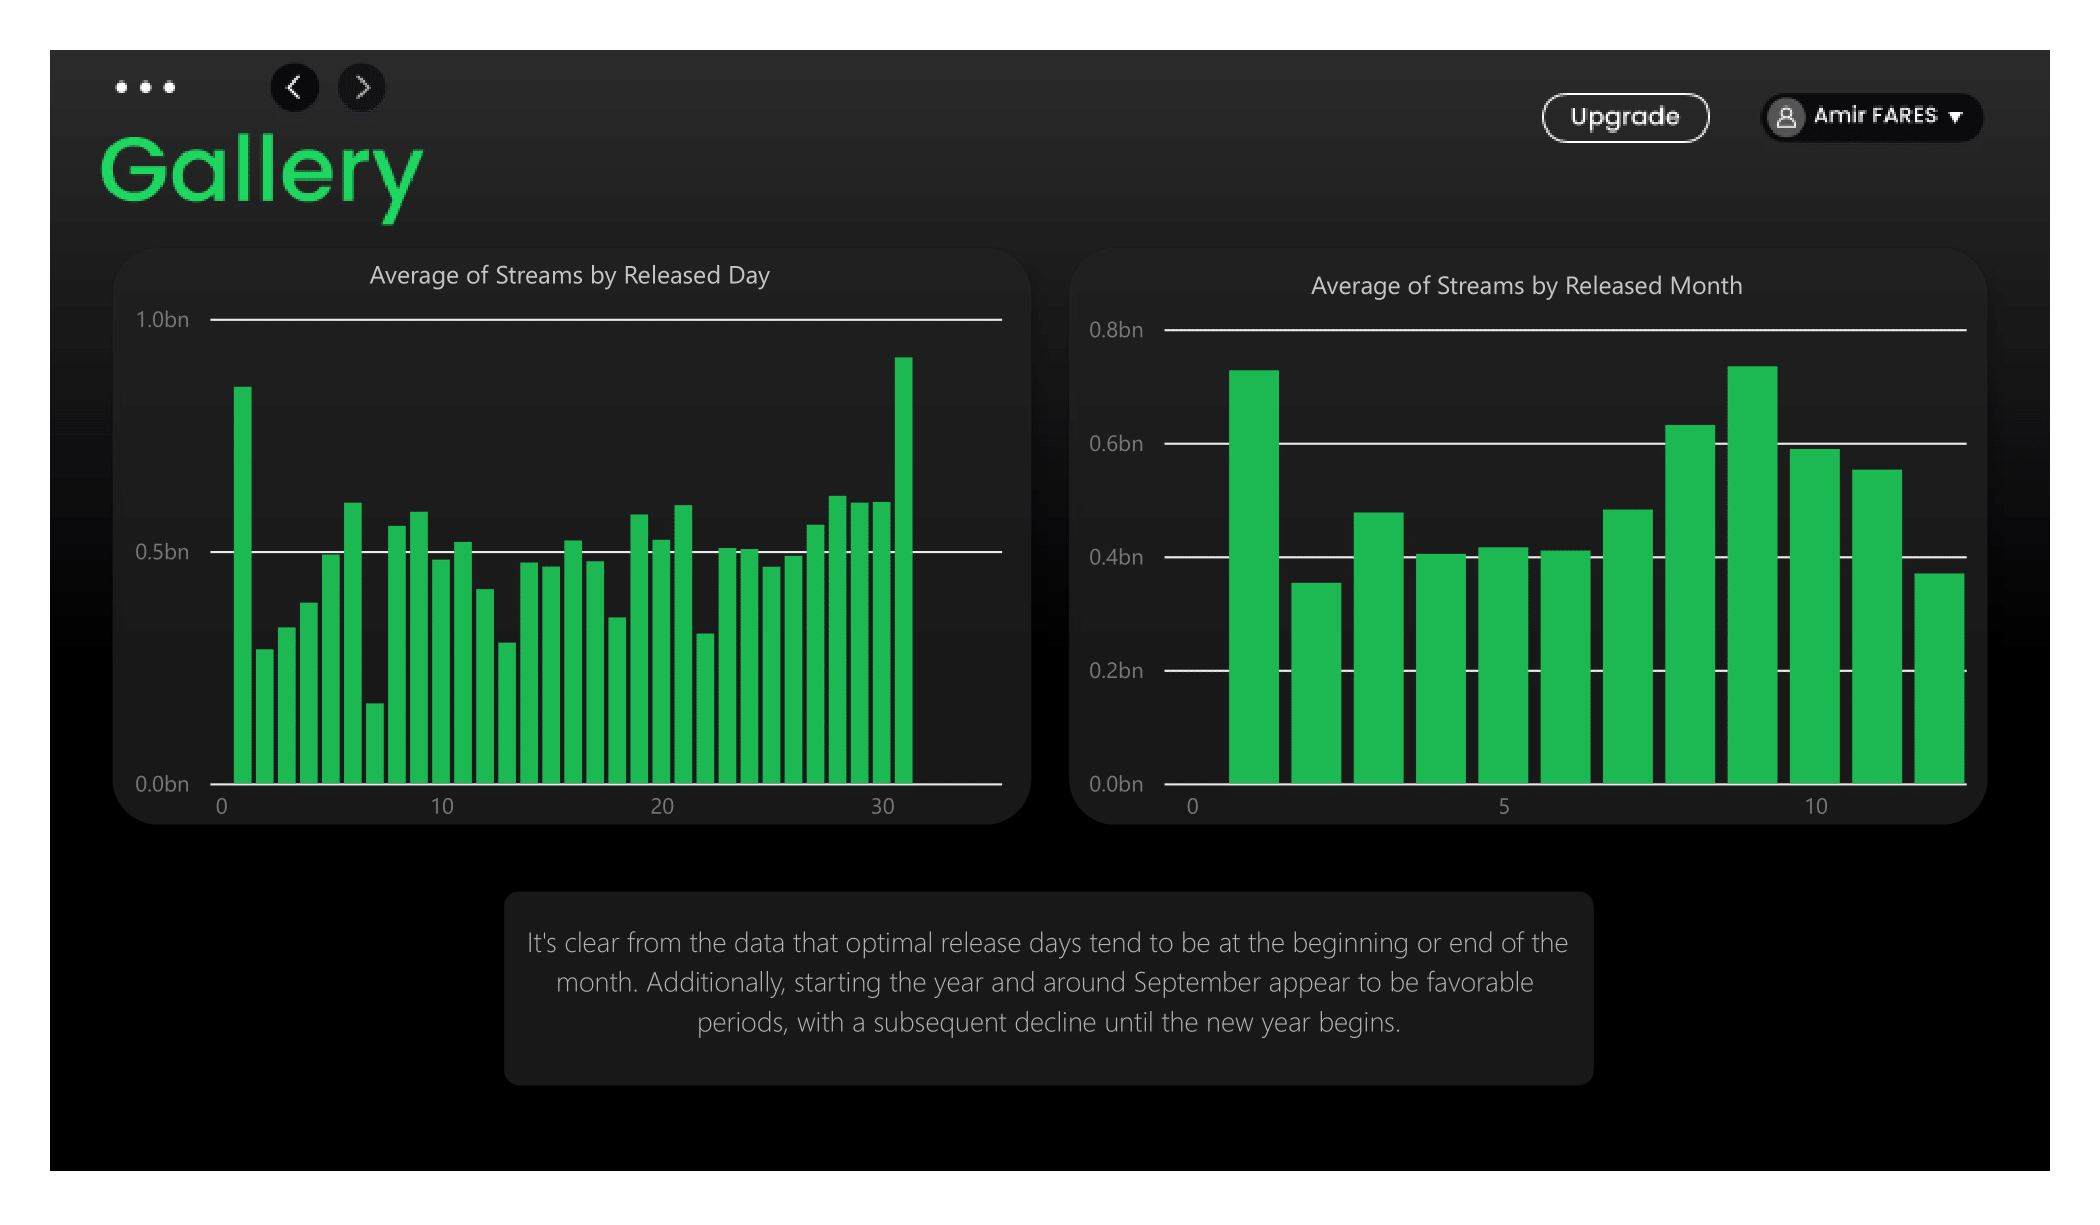

What the dashboard file says about the page in this screenshot:
{"tool":"powerbi","page":{"name":"Page 5","canvas":[960,540],"ordinal":4},"visuals":[{"type":"shape","title":"Short Rectangle","box":[208.8,395,541.2,111.2],"z":0},{"type":"shape","title":"Rectangle","box":[480,86.2,458.8,295],"z":1000},{"type":"shape","title":"Rectangle","box":[21.2,86.2,458.8,295],"z":2000},{"type":"clusteredColumnChart","title":"Average of Streams by Released Month","fields":{"Y":["Avg(Spotify Dataset.streams)"],"Category":["Spotify Dataset.released_month"]},"box":[492.5,103.8,432.5,277.5],"z":4000},{"type":"clusteredColumnChart","title":"Average of Streams by Released Day","fields":{"Y":["Avg(Spotify Dataset.streams)"],"Category":["Spotify Dataset.released_day"]},"box":[35,98.8,428.8,282.5],"z":5000},{"type":"textbox","box":[223.8,412.5,511.2,76.2],"z":6000}]}

Visuals, with their boxes on the page's 960x540 design canvas (x1, y1, x2, y2). These are canvas units, not pixel positions in the 2100x1225 screenshot, which may show the page scaled, cropped or inside an application window:
"Short Rectangle" shape: l=209, t=395, r=750, b=506
"Rectangle" shape: l=480, t=86, r=939, b=381
"Rectangle" shape: l=21, t=86, r=480, b=381
"Average of Streams by Released Month" clusteredColumnChart: l=492, t=104, r=925, b=381
"Average of Streams by Released Day" clusteredColumnChart: l=35, t=99, r=464, b=381
textbox: l=224, t=412, r=735, b=489
